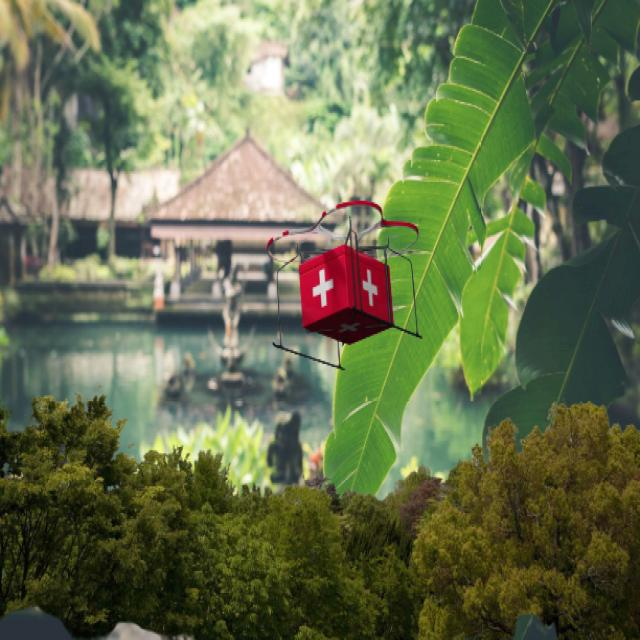drones: (264, 186, 432, 374)
